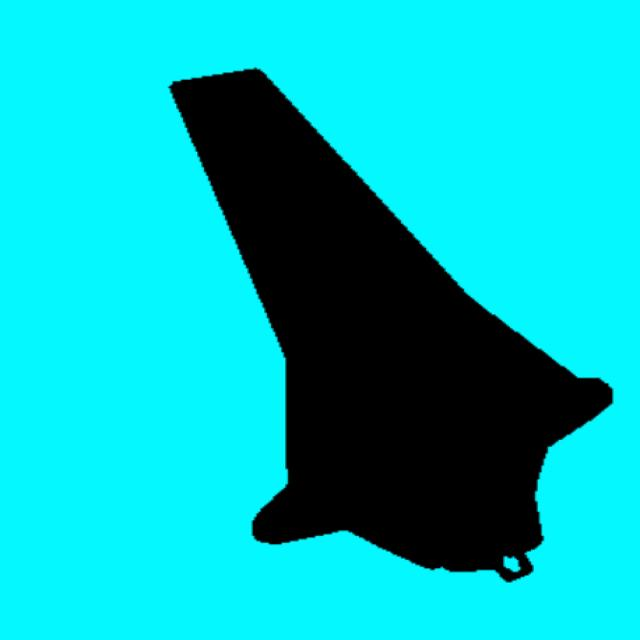BlackBuoy: (170, 69, 610, 586)
